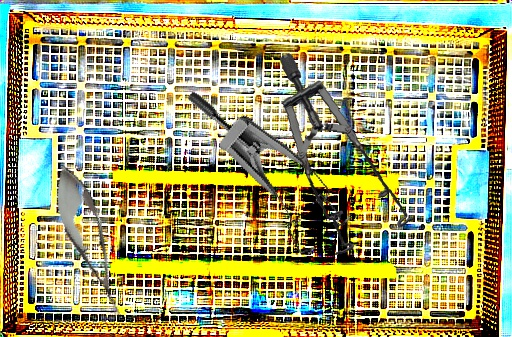Micro Scissor: (41, 158, 138, 323)
Speculum: (148, 88, 371, 267), (258, 50, 433, 264)
